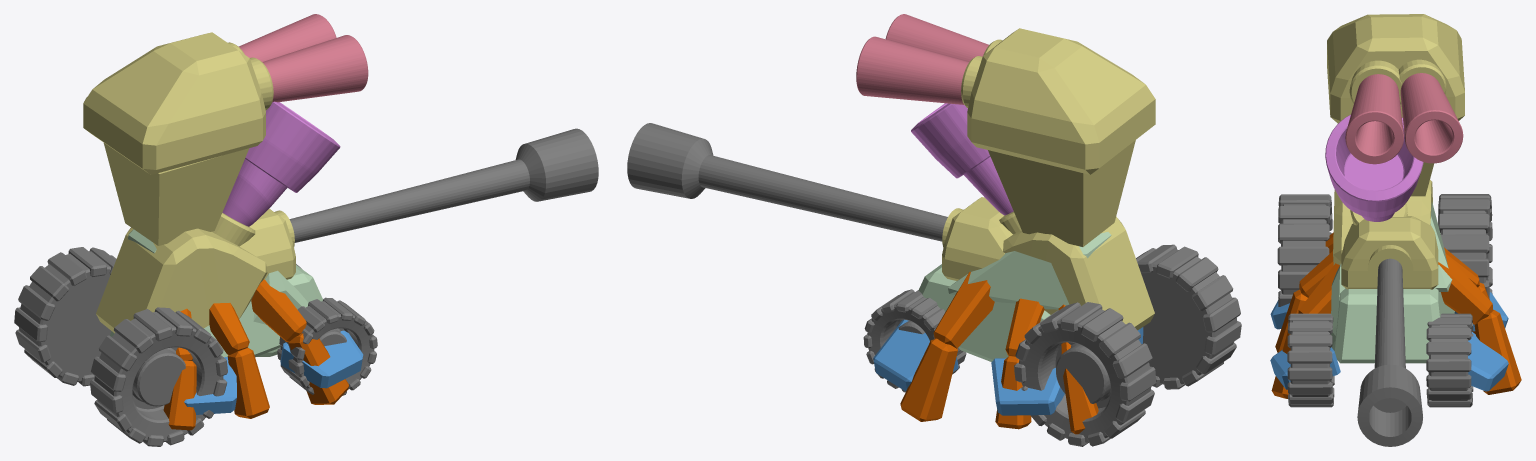
The model's file is placeholder_robots.fbx.
3 renders of one model, left to right at view 1: azimuth 30°, elevation 25°; view 2: azimuth 150°, elevation 25°; view 3: azimuth 270°, elevation 25°, orthographic. The views are drawn at different scales.
Parts seen in each view (by area): view 1: car, spider, tank; view 2: spider, car, tank; view 3: spider, car, tank.
Part boxes in pixels (x1=…): car: x1=14, y1=101, x2=377, y2=446; spider: x1=83, y1=14, x2=368, y2=430; tank: x1=110, y1=128, x2=598, y2=414; spider: x1=856, y1=14, x2=1155, y2=434; car: x1=863, y1=103, x2=1241, y2=446; tank: x1=627, y1=123, x2=1143, y2=415; spider: x1=1271, y1=14, x2=1521, y2=398; car: x1=1277, y1=114, x2=1492, y2=407; tank: x1=1270, y1=216, x2=1508, y2=446.
Size of the model in its own units: 13.68 by 8.44 by 5.62.
